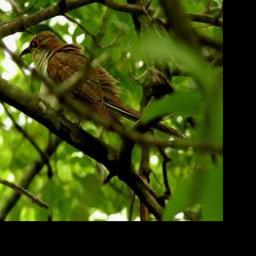Cuckoo: (18, 28, 188, 142)
